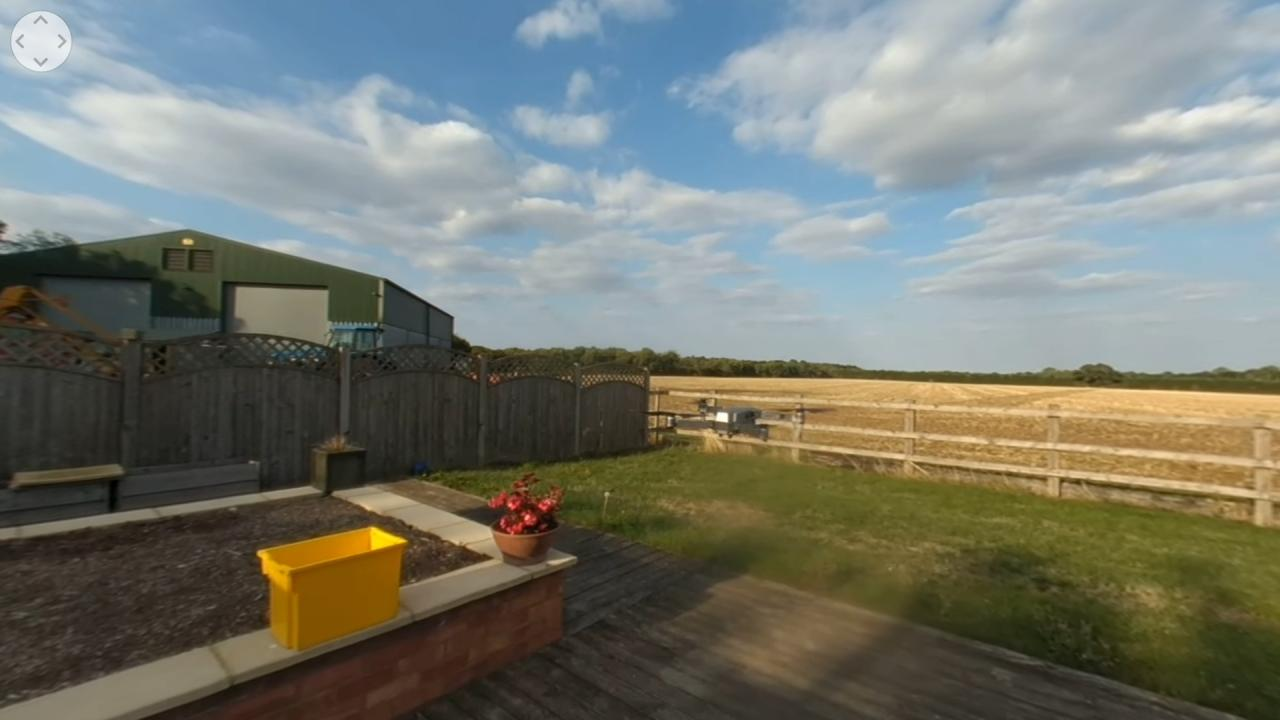Drone: (628, 390, 846, 451)
